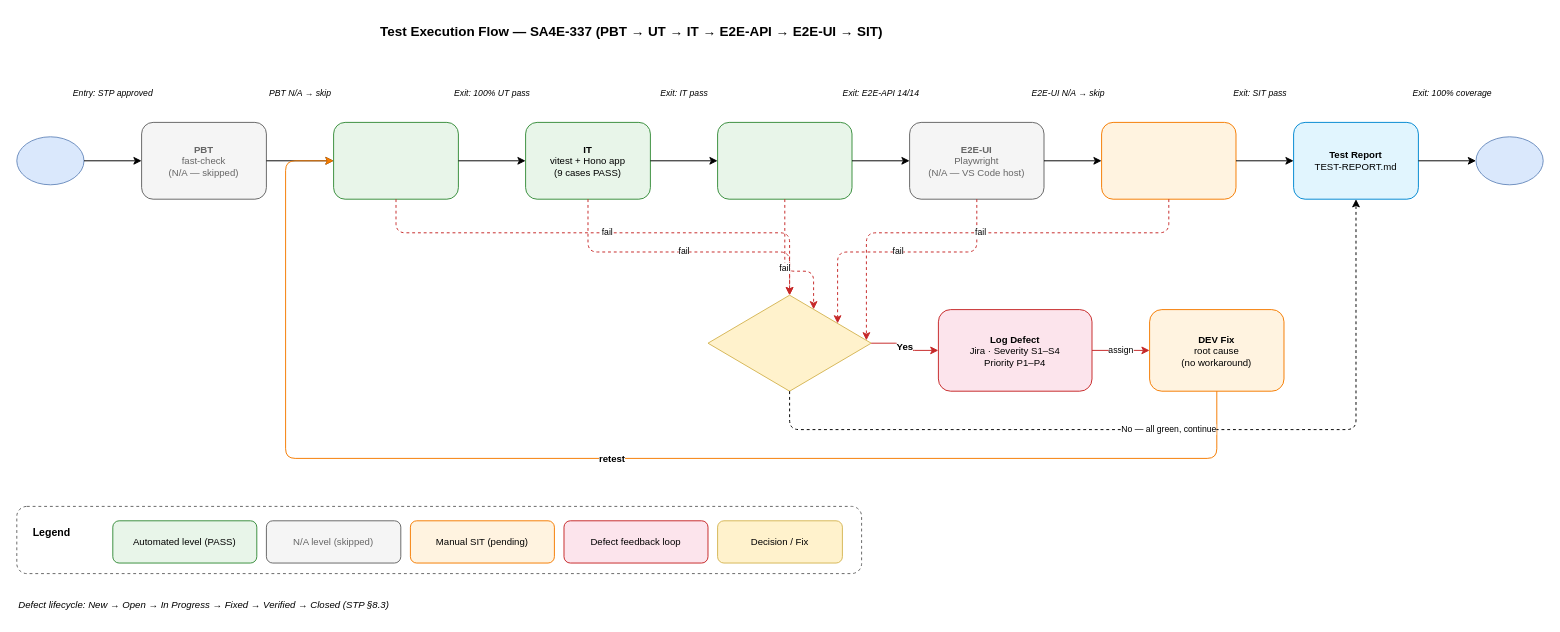
Image size: 1560x632. Some labels were removed from this diagram. The centre of each missing label's shape, as x and y in pixels:
Any FAIL?: the point at 789,342
E2E-API vitest + fetch, real server (14 cases PASS): the point at 784,160
Exit: the point at 1509,160
SIT manual VS Code (4 cases) pending execution: the point at 1168,160
Start: the point at 50,160
UT vitest — 82 cases (82 PASS): the point at 395,160
